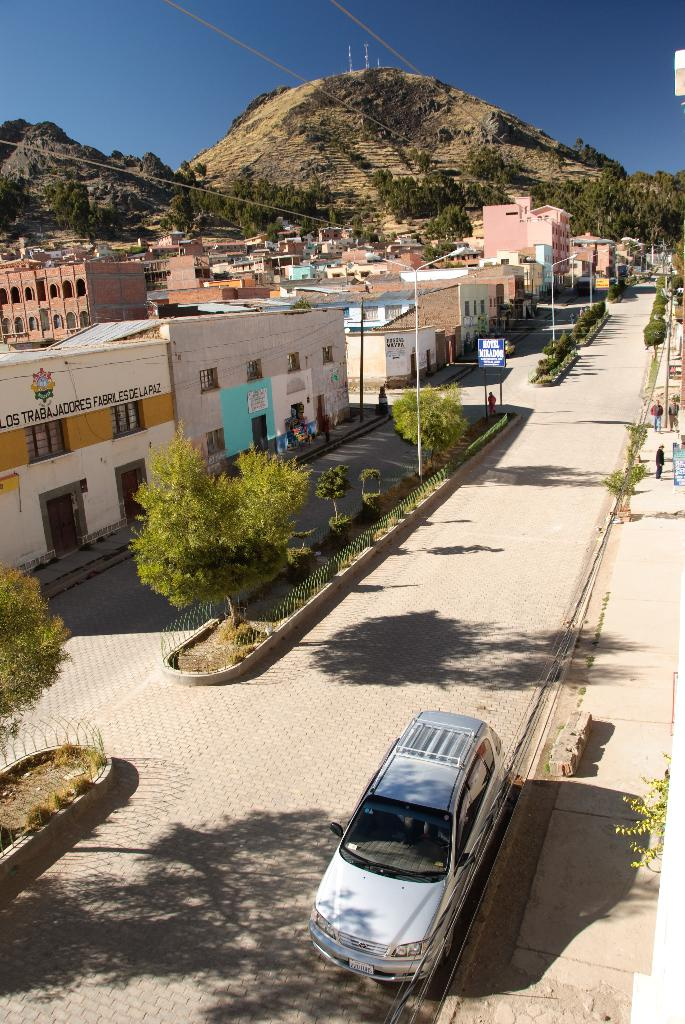Car: (305, 711, 504, 986), (506, 339, 513, 359)
